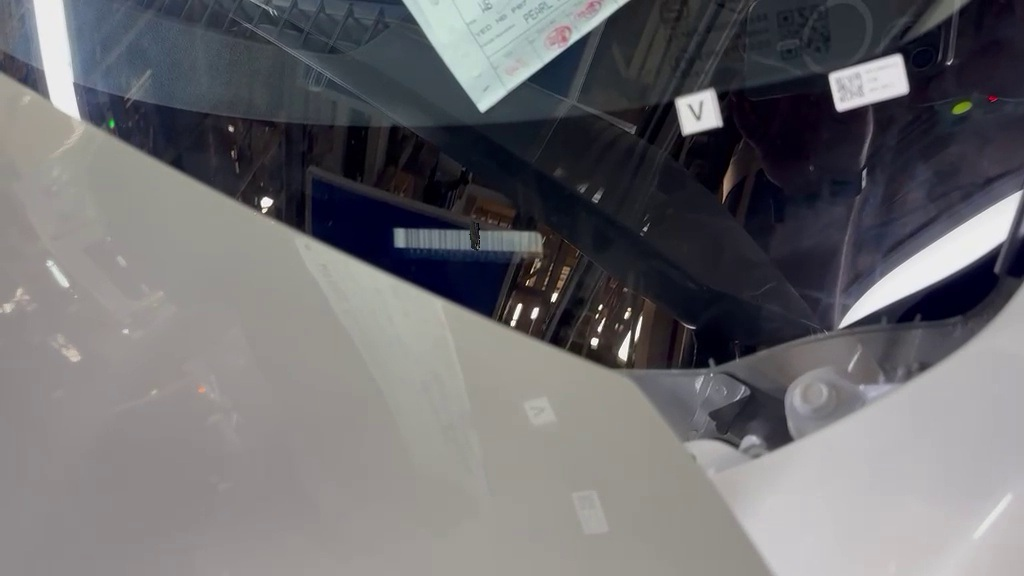hinge: (375, 210, 581, 274)
